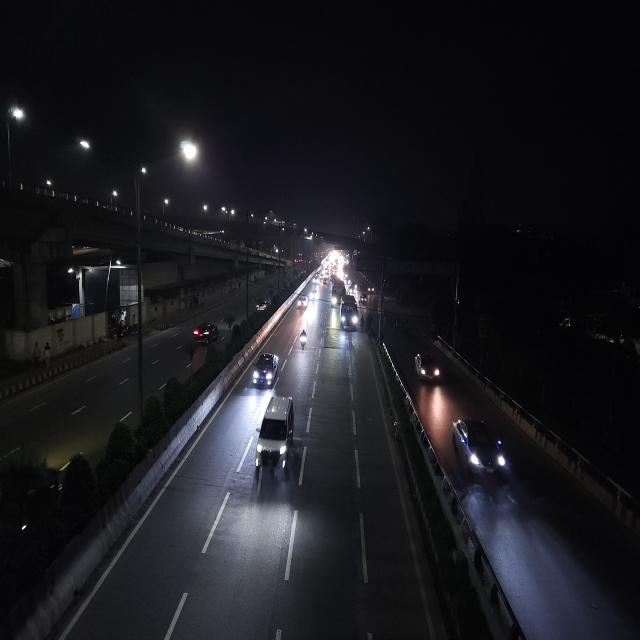bus: (340, 293, 360, 334), (330, 277, 346, 306)
car: (448, 413, 512, 487), (252, 392, 298, 478), (250, 349, 281, 392), (412, 348, 443, 389), (191, 320, 220, 346), (254, 297, 268, 314), (297, 293, 309, 310)
motorcycle: (298, 328, 308, 352)
pedestrian: (31, 341, 43, 384), (42, 340, 53, 384), (392, 316, 400, 330)
